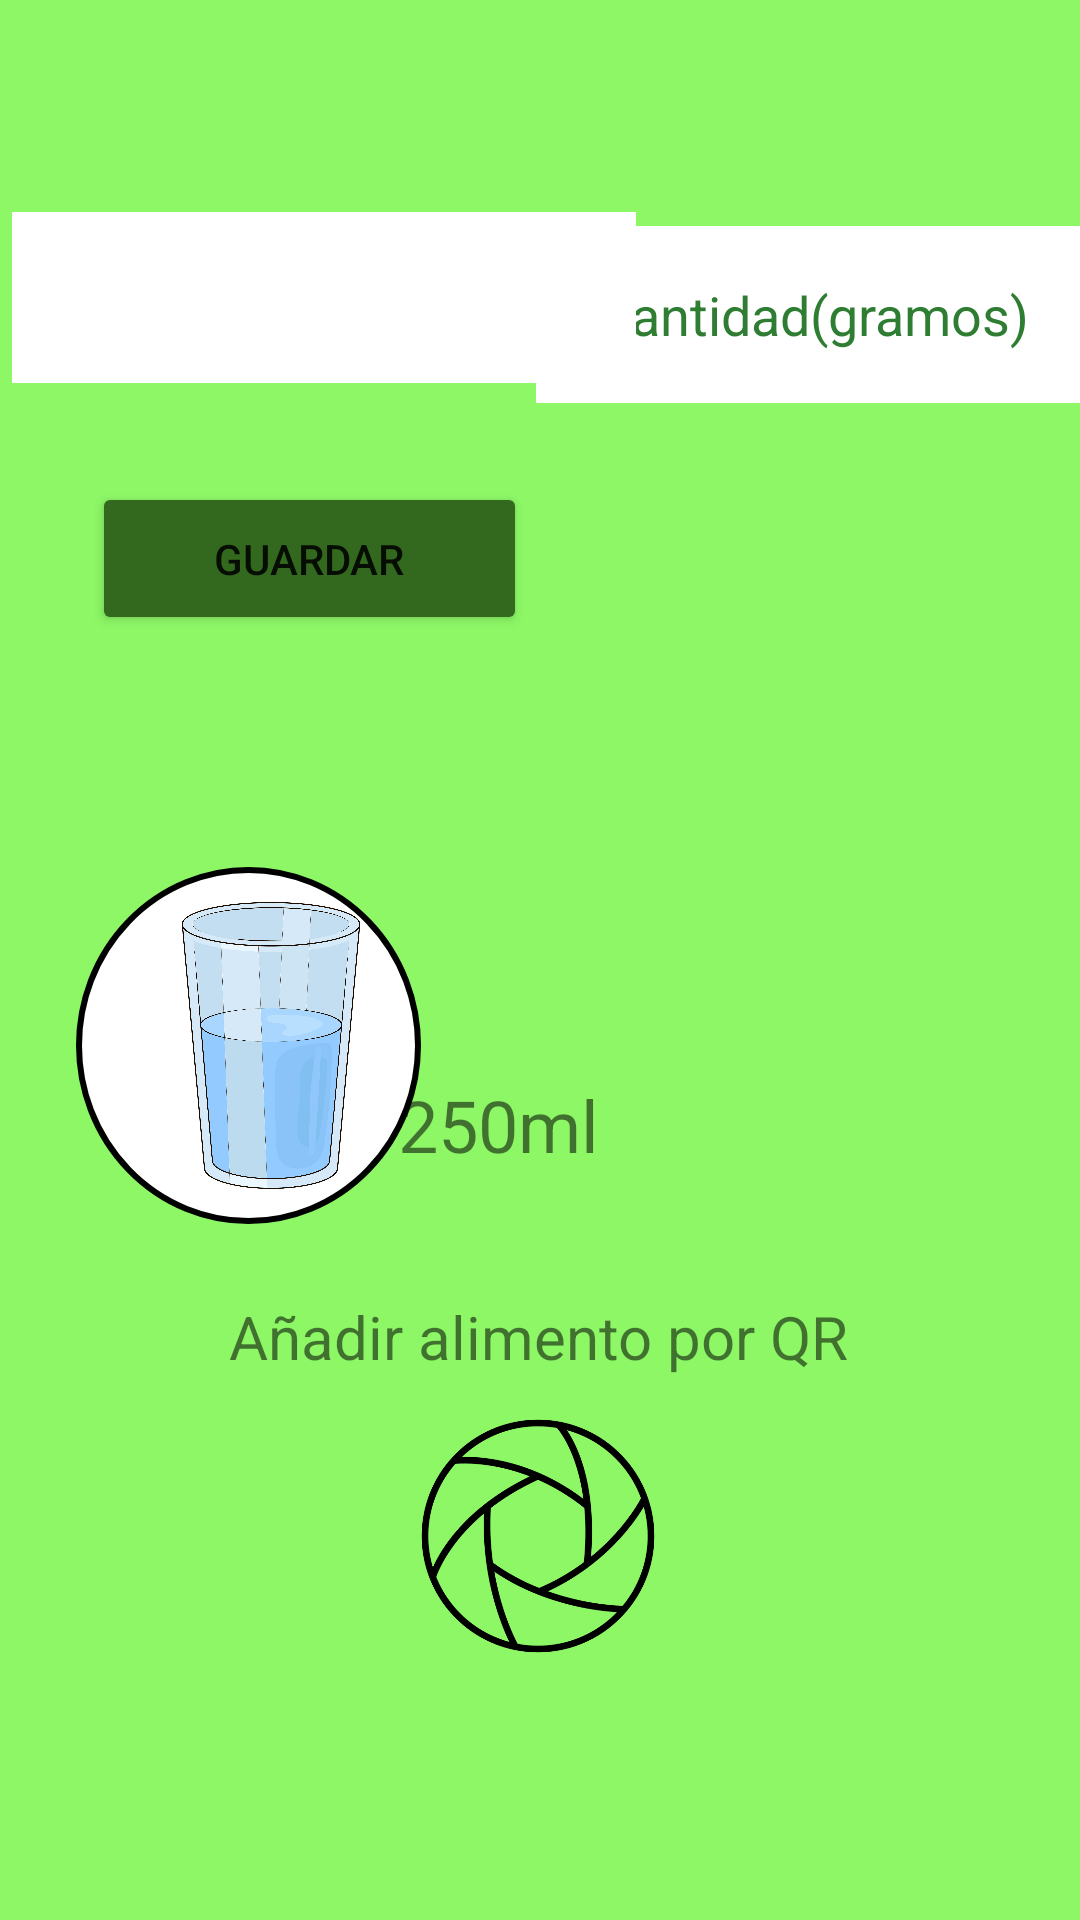

Locate icon controls on the screen. Image size 1080w x 1920h, boxes as (x1,y1,x2,y2).
lente: (421,1419,655,1653)
vaso: (76,867,421,1224)
